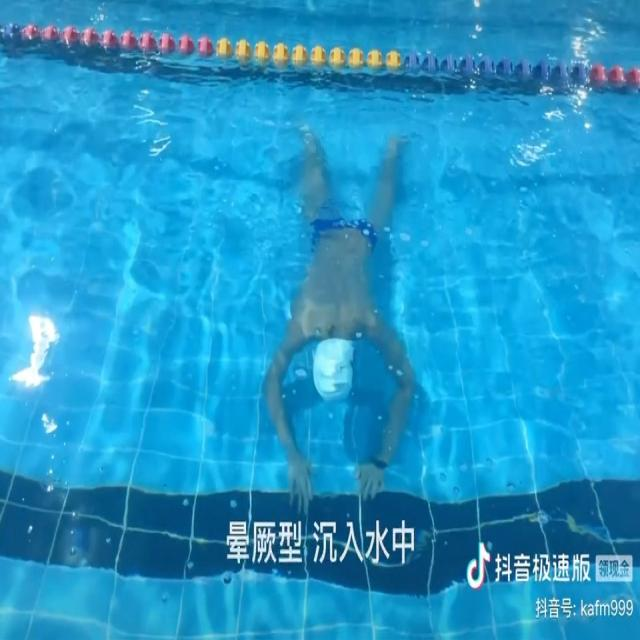Drowning: (263, 128, 416, 516)
